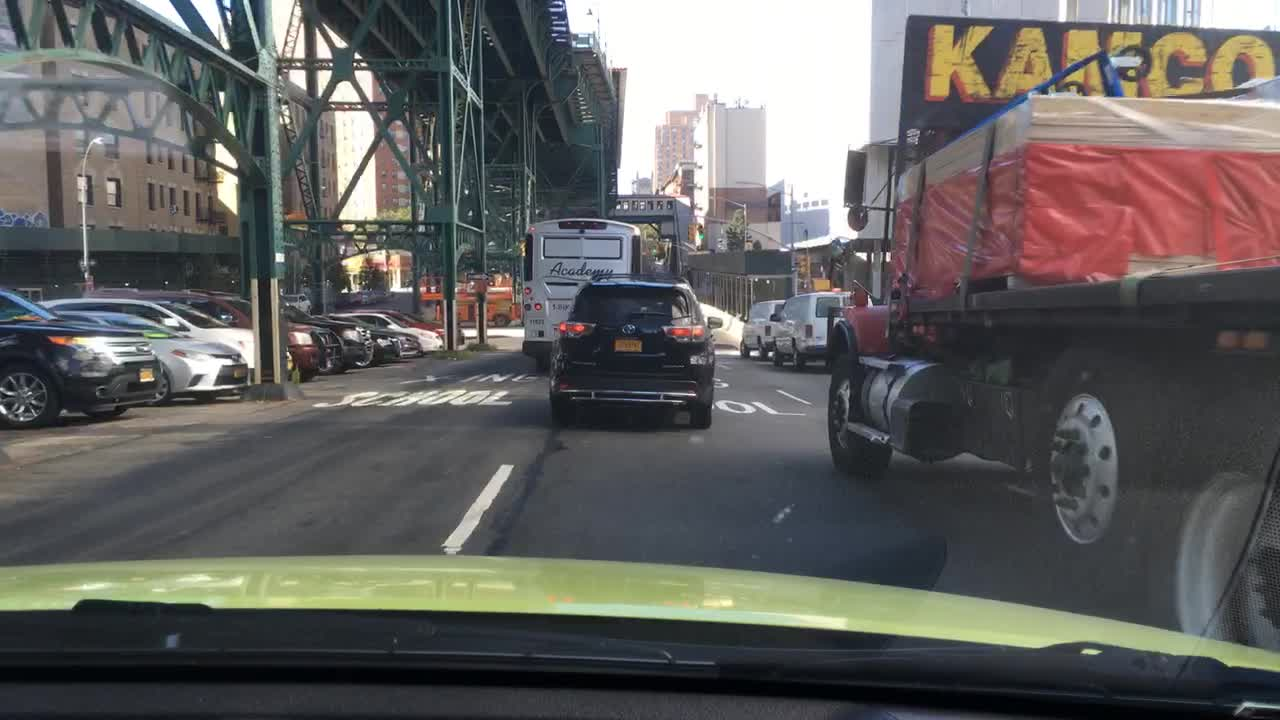bus: (523, 221, 650, 372), (418, 281, 517, 328)
car: (548, 269, 724, 428), (89, 286, 319, 385), (32, 297, 249, 401), (0, 286, 153, 426), (118, 297, 291, 397), (276, 299, 372, 370), (772, 290, 853, 367), (329, 313, 425, 359), (352, 308, 442, 352), (340, 318, 402, 363), (738, 298, 785, 357), (404, 313, 464, 345), (283, 291, 313, 313)
traffic light: (696, 220, 703, 242), (687, 223, 693, 239)
traffic sign: (464, 271, 488, 282)
truck: (824, 50, 1278, 657), (797, 254, 805, 272)
